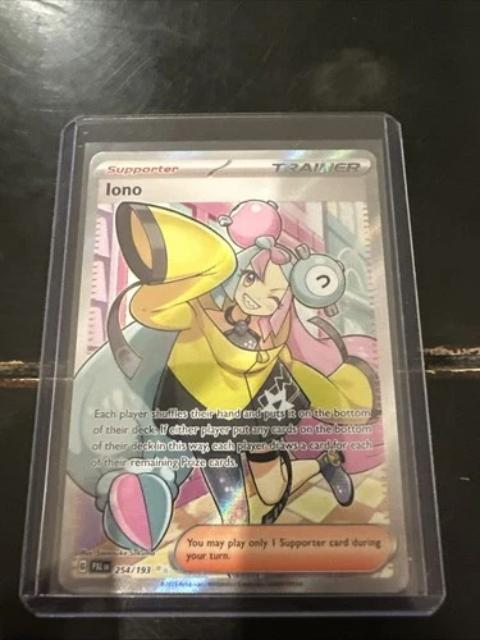Card: (53, 143, 417, 600)
Name: (101, 178, 145, 199)
